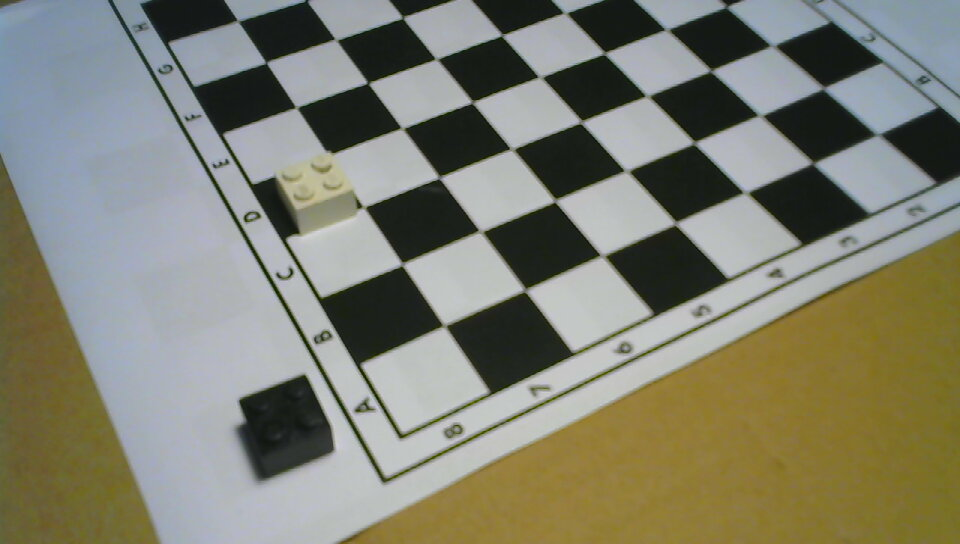bp: (238, 374, 335, 479)
wp: (273, 150, 359, 236)
